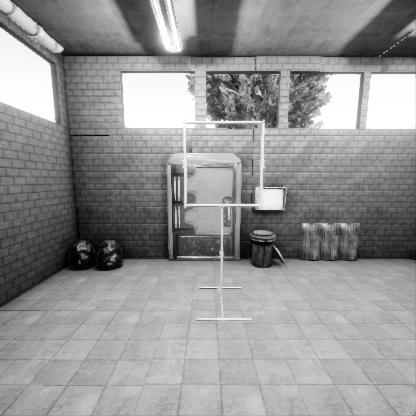gate: (182, 212, 270, 299)
